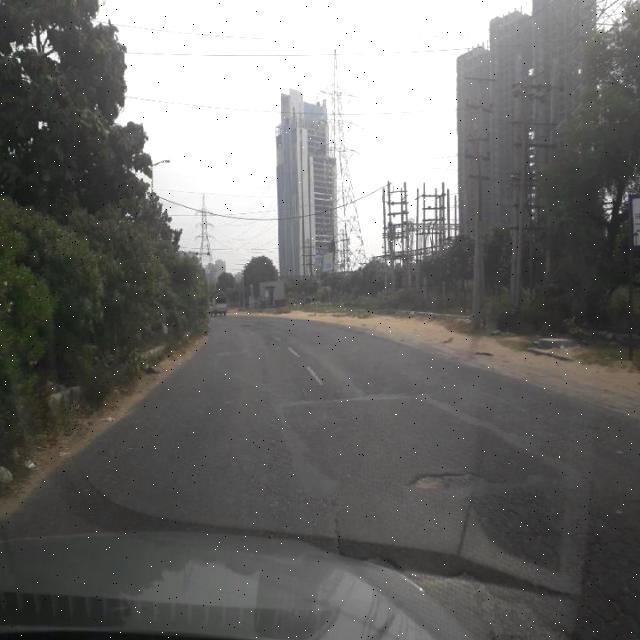D20: (447, 482, 640, 634)
D40: (406, 465, 486, 492)
